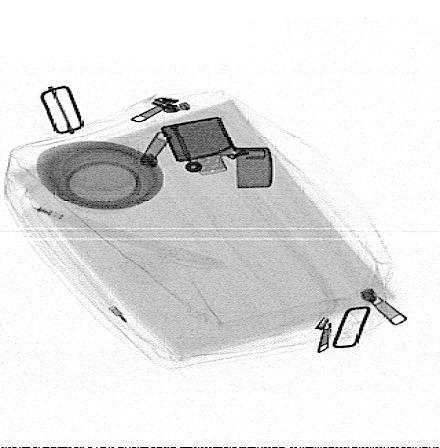Lighter: (159, 116, 274, 188)
